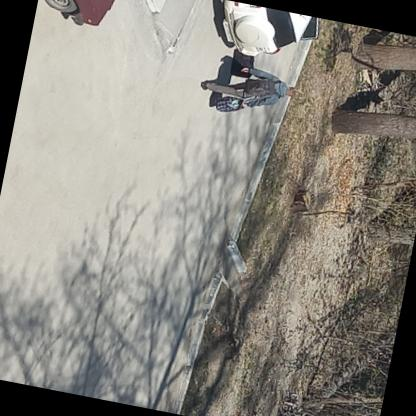Human Body: (190, 56, 303, 132)
